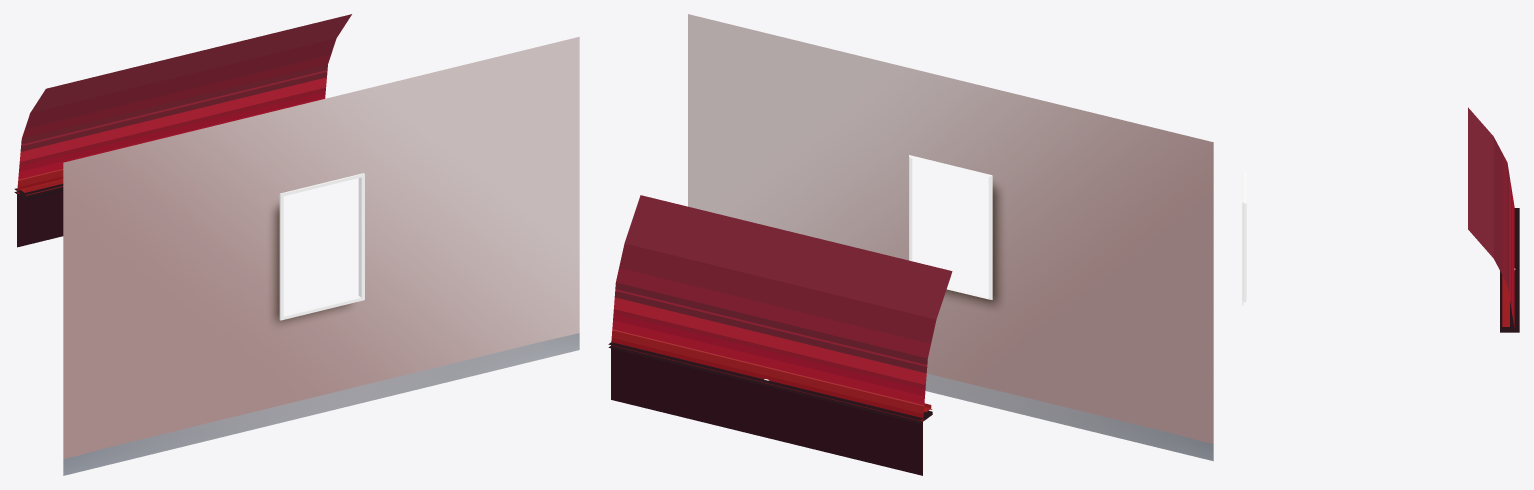
The picture shows the model from 3 angles, left to right: view 1: azimuth 30°, elevation 25°; view 2: azimuth 150°, elevation 25°; view 3: azimuth 270°, elevation 25°; orthographic projection. The views are drawn at different scales.
Parts seen in each view (by area): view 1: wall.001, Plane.005, Plane.006, Plane.004, Plane.008, Plane.007, Plane.001, Plane.014, Plane.009, Plane.010, Plane.003, Plane.011; view 2: wall.001, Plane.005, Plane.001, Plane.006, Plane.007, Plane.004, Plane.008, Plane.010, Plane.011, Plane.014, Plane, Plane.013 (+2 smaller); view 3: Plane.005, Plane.006, Plane, Plane.007, wall.001, Plane.011, Plane.004.
Part boxes in pixels (x1=…): wall.001: x1=63, y1=36, x2=579, y2=475; Plane.005: x1=30, y1=14, x2=351, y2=112; Plane.006: x1=25, y1=38, x2=336, y2=129; Plane.004: x1=20, y1=64, x2=327, y2=151; Plane.008: x1=19, y1=77, x2=326, y2=161; Plane.007: x1=22, y1=54, x2=330, y2=138; Plane.001: x1=17, y1=192, x2=63, y2=247; Plane.014: x1=19, y1=91, x2=325, y2=171; Plane.009: x1=19, y1=87, x2=325, y2=165; Plane.010: x1=18, y1=97, x2=325, y2=179; Plane.003: x1=21, y1=70, x2=327, y2=146; Plane.011: x1=17, y1=170, x2=63, y2=195; wall.001: x1=688, y1=14, x2=1213, y2=461; Plane.005: x1=624, y1=195, x2=952, y2=319; Plane.001: x1=611, y1=348, x2=922, y2=475; Plane.006: x1=619, y1=243, x2=936, y2=343; Plane.007: x1=616, y1=268, x2=930, y2=358; Plane.004: x1=614, y1=282, x2=927, y2=373; Plane.008: x1=614, y1=297, x2=926, y2=384; Plane.010: x1=612, y1=320, x2=924, y2=404; Plane.011: x1=611, y1=330, x2=932, y2=413; Plane.014: x1=613, y1=313, x2=925, y2=396; Plane: x1=608, y1=342, x2=932, y2=423; Plane.013: x1=611, y1=338, x2=923, y2=421; Plane.005: x1=1468, y1=107, x2=1493, y2=257; Plane.006: x1=1493, y1=137, x2=1502, y2=274; Plane: x1=1500, y1=208, x2=1519, y2=332; Plane.007: x1=1502, y1=153, x2=1507, y2=284; wall.001: x1=1242, y1=168, x2=1246, y2=305; Plane.011: x1=1502, y1=200, x2=1514, y2=326; Plane.004: x1=1507, y1=164, x2=1509, y2=294.
Bounding box in the file's own units: 26.97 × 15.63 × 15.36.
Materials: 21 (1 with a texture image).
